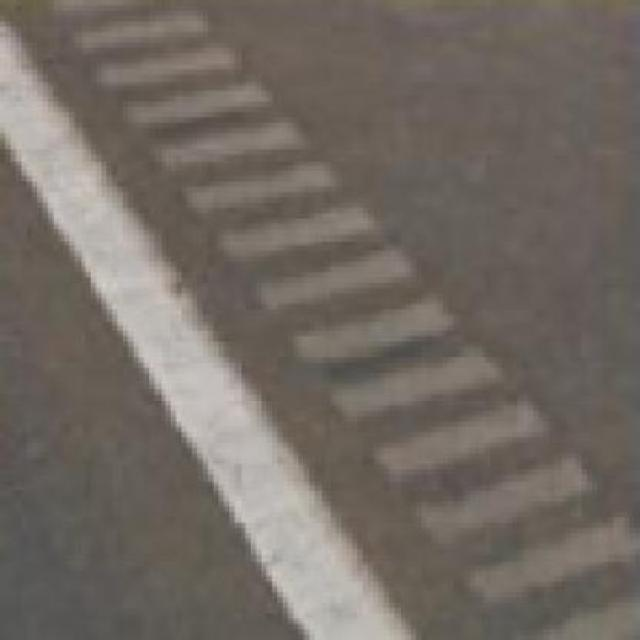crosswalk: (49, 2, 639, 638)
